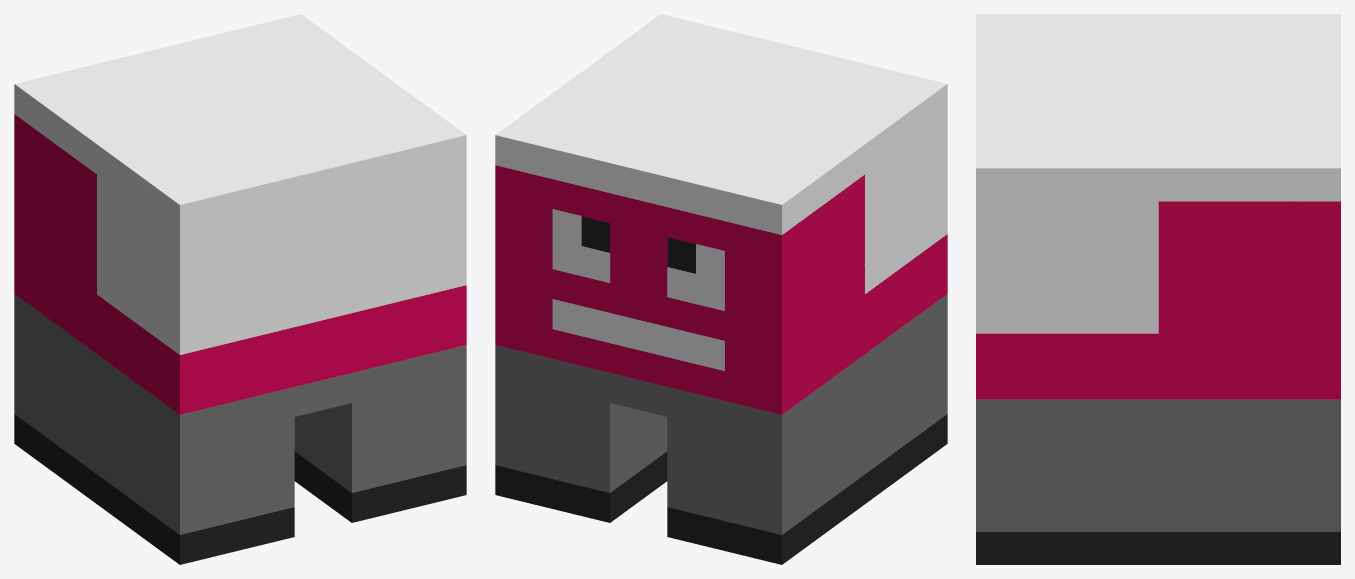
The model's file is Character_4.fbx.
3 views of the same model, side by side, from view 1: azimuth 30°, elevation 25°; view 2: azimuth 150°, elevation 25°; view 3: azimuth 270°, elevation 25° (orthographic). The views are drawn at different scales.
Parts seen in each view (by area): view 1: Character_4; view 2: Character_4; view 3: Character_4.
Part boxes in pixels (<box>): Character_4: <box>14,14,466,564</box>; Character_4: <box>495,14,947,564</box>; Character_4: <box>976,14,1340,564</box>.
Size of the model in its own units: 10 by 12 by 10.
1 material, 1 textured.
